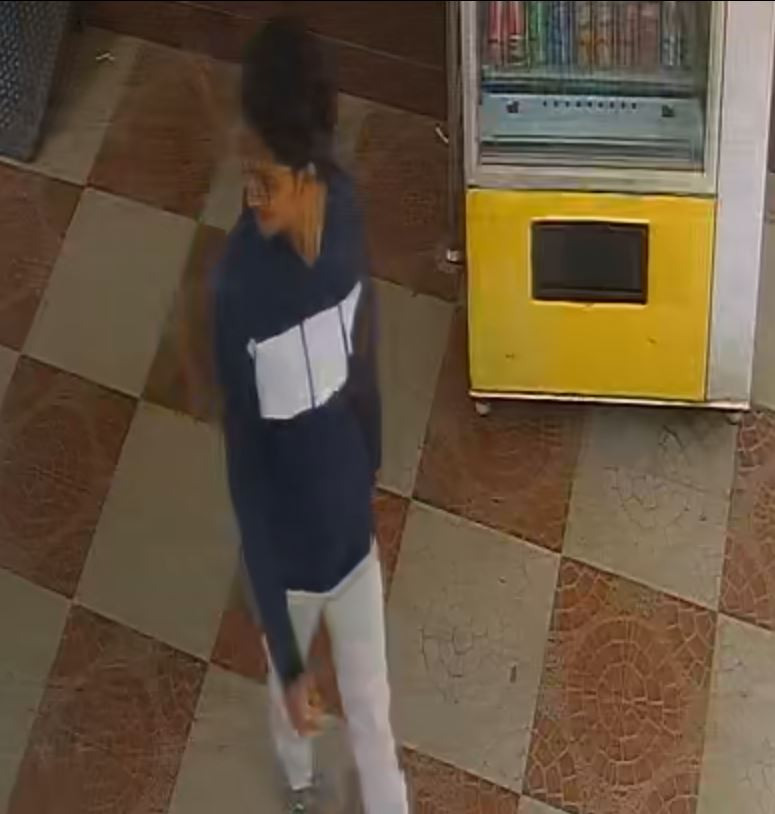intruder: (215, 8, 392, 814)
